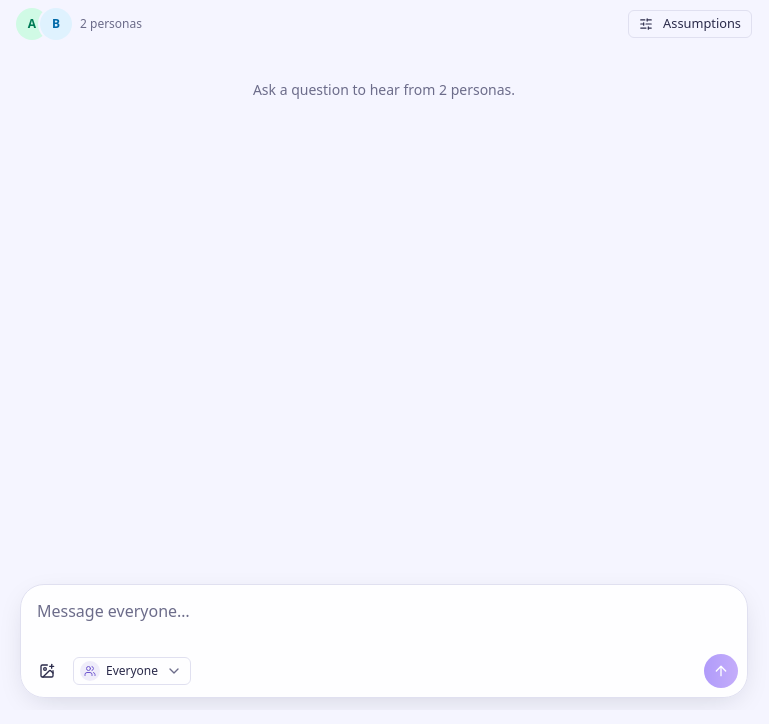
Scenario: GroupChatView › broadcasts a message to everyone and reveals the reply
Step 1. Type "Should we launch?" into the text box with placeholder "Message everyone…" → (384,611), box 21,589 -> 747,633
Then press Enter
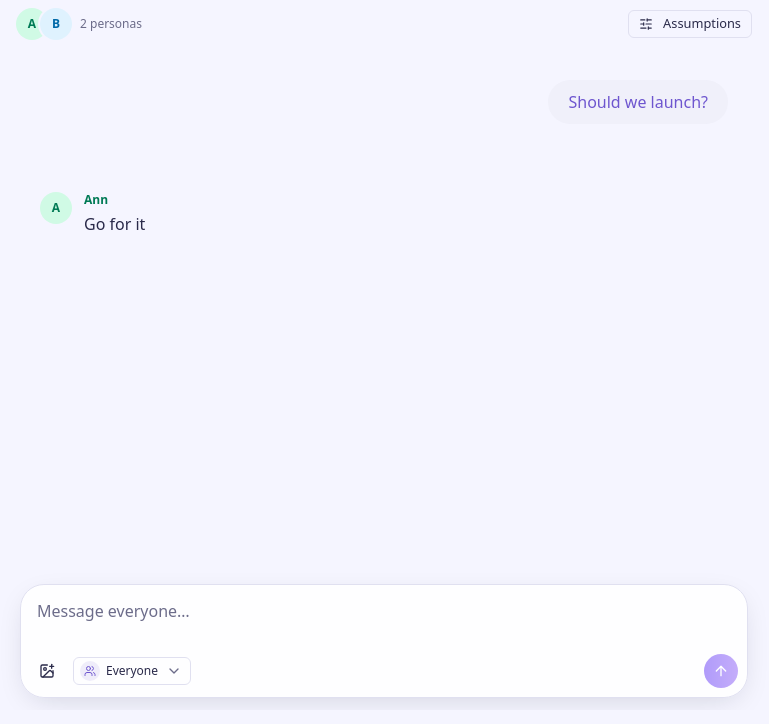
Result: the text "Should we launch?" is shown at 548,80 -> 728,124
Result: the text "Go for it" is shown at 84,213 -> 145,235
